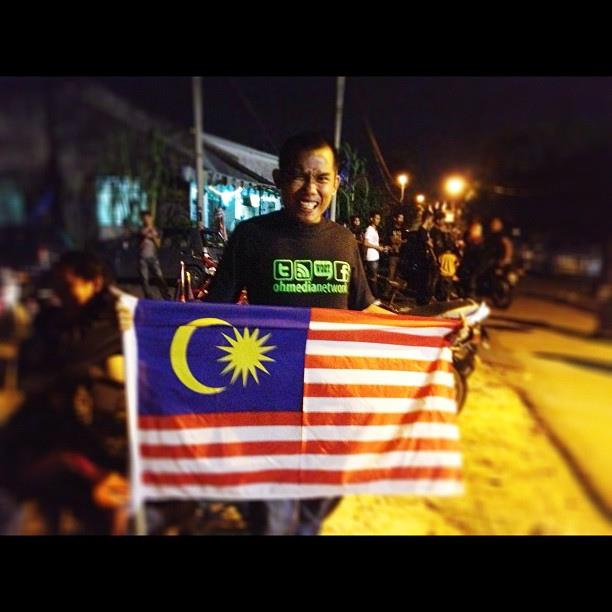Malaysia_flag: (130, 299, 472, 500)
